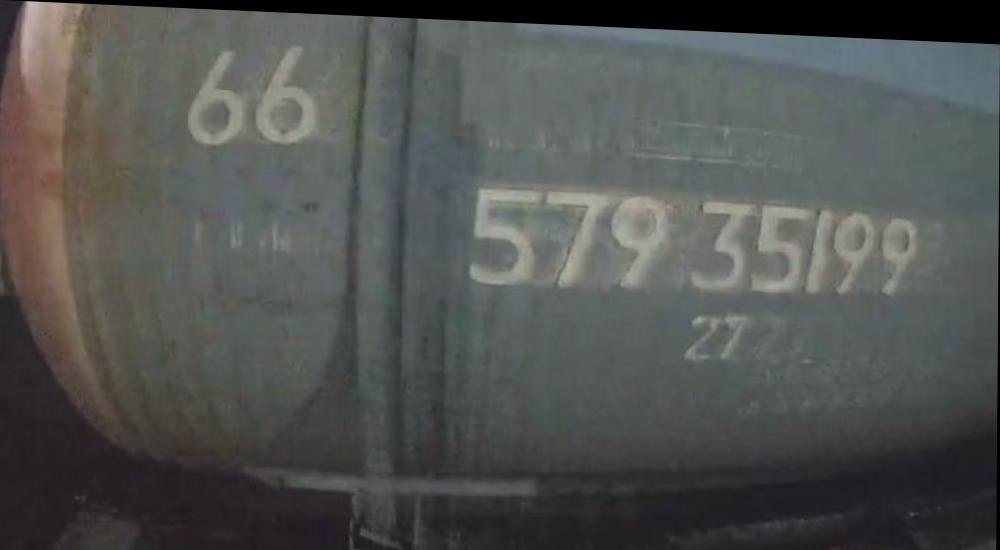Wagon-number: (464, 177, 923, 298)
